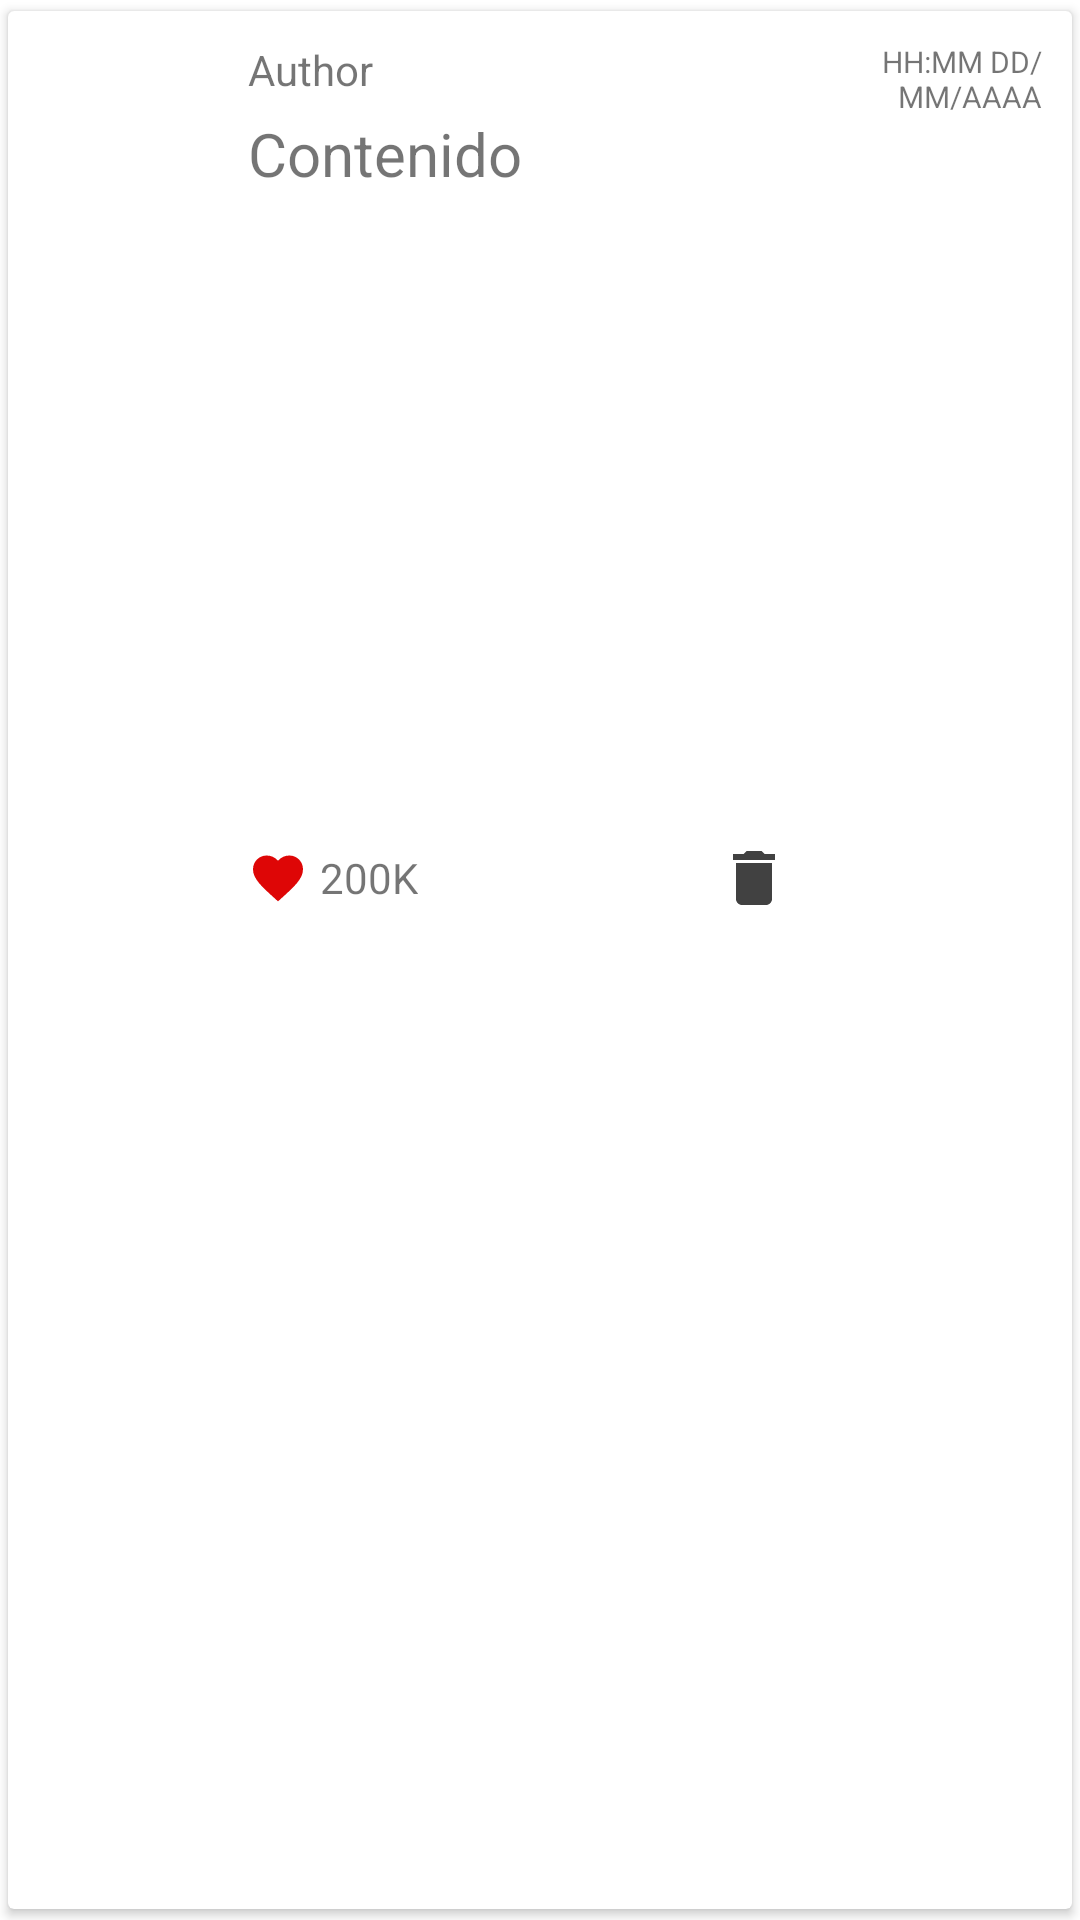

Locate icon controls on the screen. Image size 1080px×1920px, boxes as (x1, y1, x2, y2).
delete: (733, 851, 775, 905)
like on: (253, 855, 303, 901)
